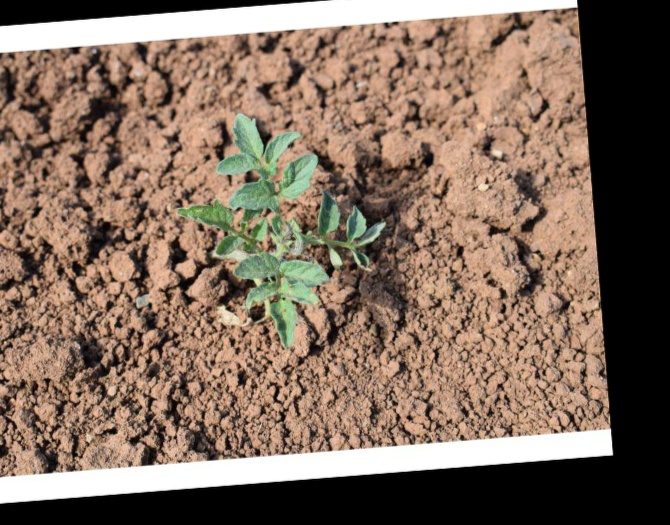tomato: (179, 109, 386, 347)
